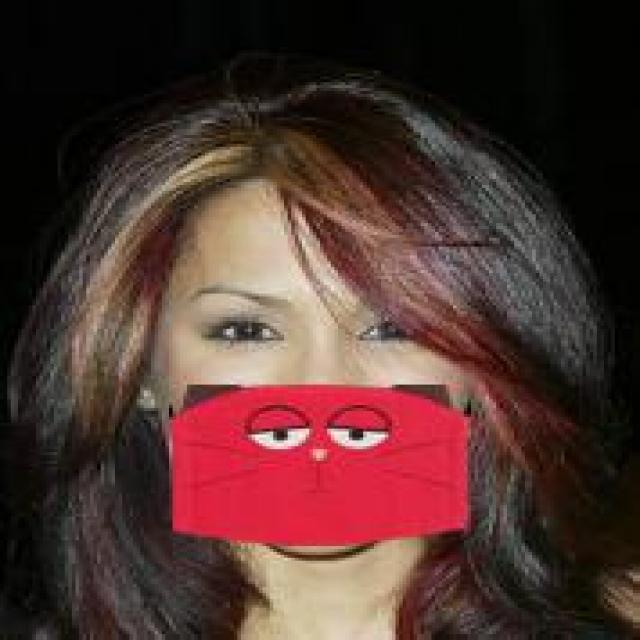mask: (111, 79, 528, 561)
